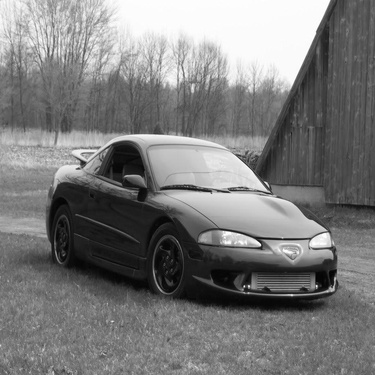car: (35, 122, 350, 312)
